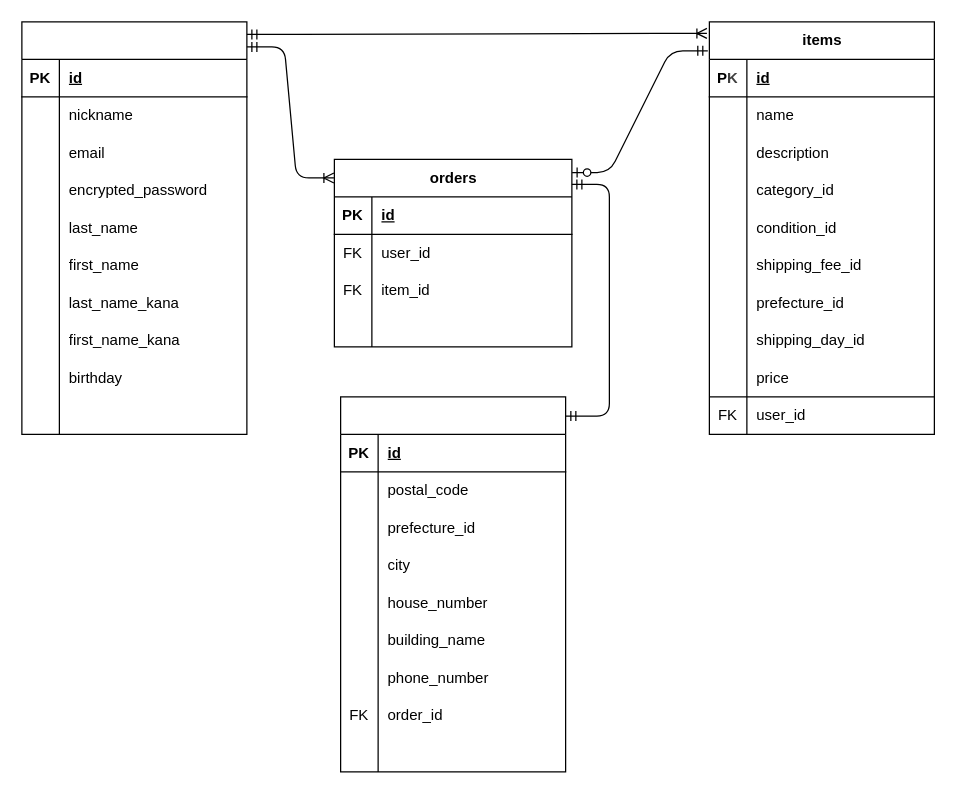
This 956x794 diagram has some shape labels left out. The shapes that lost their labels are listed below. From the top down, each one's box as (x1, y1, x2, y2) in pixels, then its label:
(21, 21, 247, 434): users
(339, 396, 566, 772): addresses
